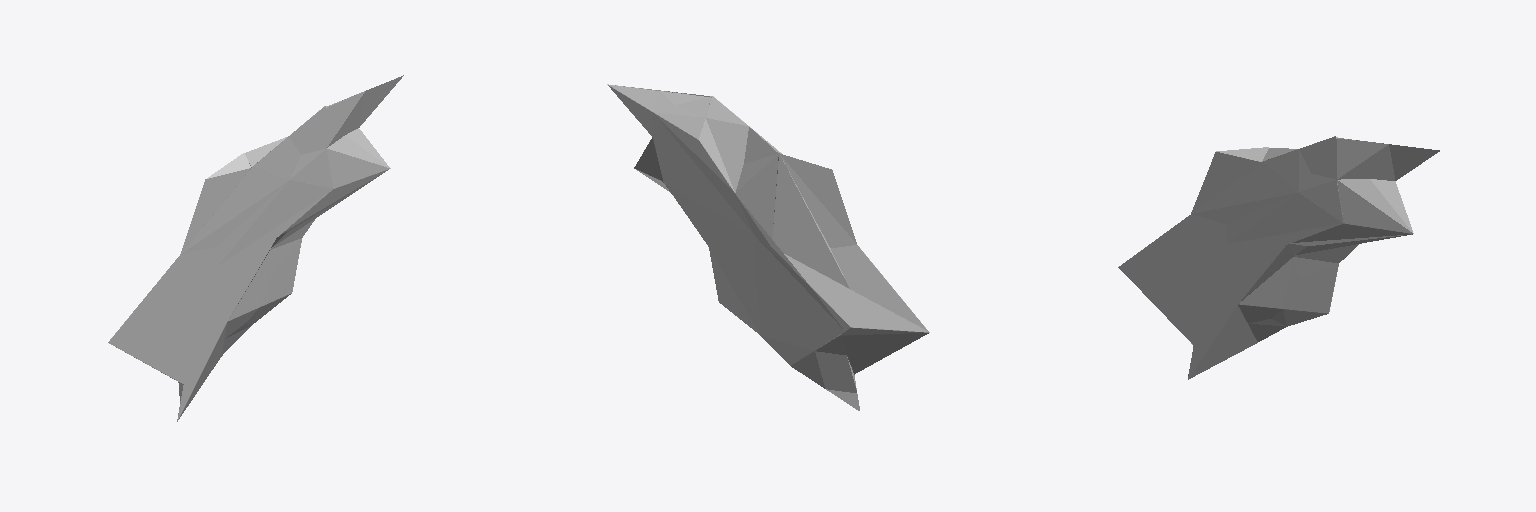
Rendered from Glass_Shard_1-4a462b.obj.
3 renders of one model, left to right at view 1: azimuth 30°, elevation 25°; view 2: azimuth 150°, elevation 25°; view 3: azimuth 330°, elevation 25°, orthographic.
Visible parts, largest first — view 1: pCube1; view 2: pCube1; view 3: pCube1.
Part boxes in pixels (bbox=[...]): pCube1: bbox=[108, 75, 403, 421]; pCube1: bbox=[607, 84, 929, 410]; pCube1: bbox=[1118, 136, 1439, 379].
Bounding box in the file's own units: 11.68 × 10.12 × 1.01.